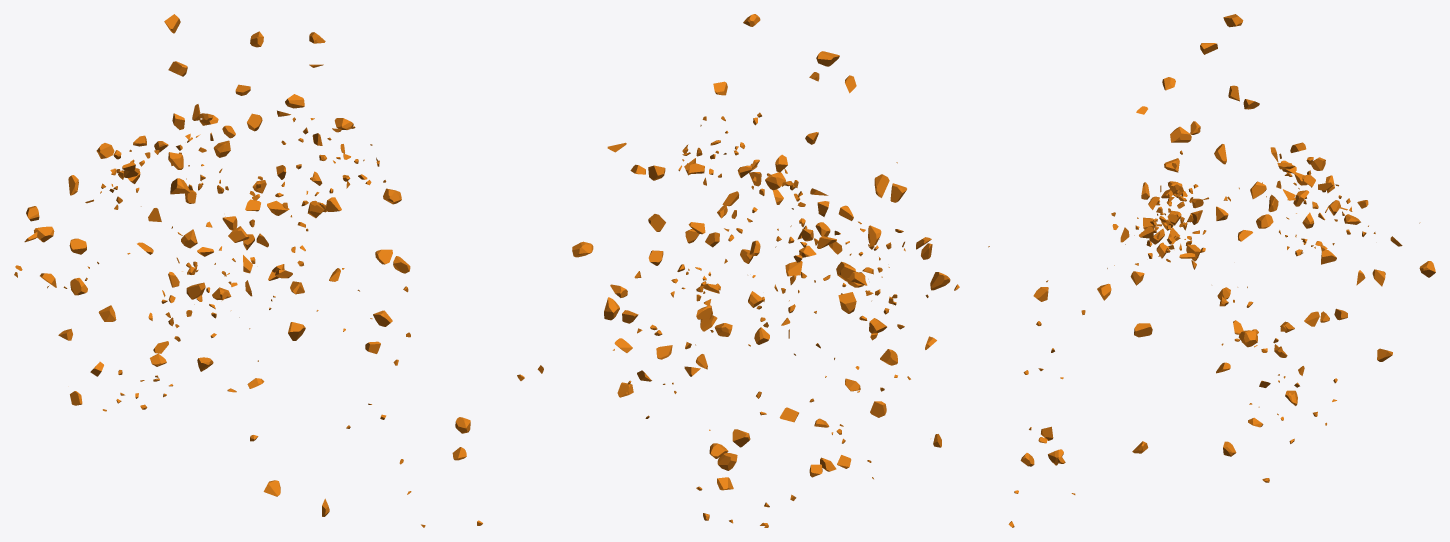
File: Explode_Cube.f0019.glb
3 renders of one model, left to right at view 1: azimuth 30°, elevation 25°; view 2: azimuth 150°, elevation 25°; view 3: azimuth 270°, elevation 25°, orthographic. The views are drawn at different scales.
Size of the model in its own units: 10.62 by 11.96 by 11.3.
